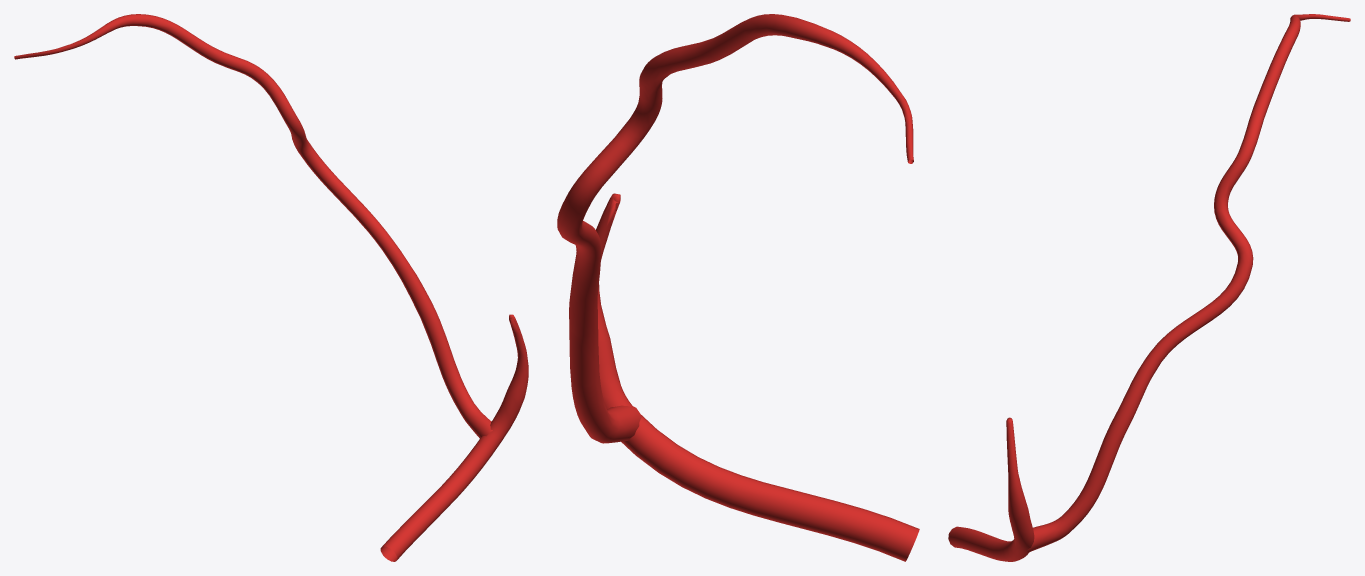
Rendered from circulatorio-parietal-branches-of-middle-cerebral-artery-l.glb.
The picture shows the model from 3 angles, left to right: view 1: azimuth 30°, elevation 25°; view 2: azimuth 150°, elevation 25°; view 3: azimuth 270°, elevation 25°; orthographic projection. The views are drawn at different scales.
Parts seen in each view (by area): view 1: Parietal branches of middle cerebral artery.l; view 2: Parietal branches of middle cerebral artery.l; view 3: Parietal branches of middle cerebral artery.l.
Boxes of the visible parts, left/top/right/bottom form: Parietal branches of middle cerebral artery.l: left=14, top=14, right=528, bottom=561; Parietal branches of middle cerebral artery.l: left=557, top=14, right=919, bottom=561; Parietal branches of middle cerebral artery.l: left=948, top=14, right=1350, bottom=561.
Size of the model in its own units: 0.0334 by 0.0409 by 0.0315.
